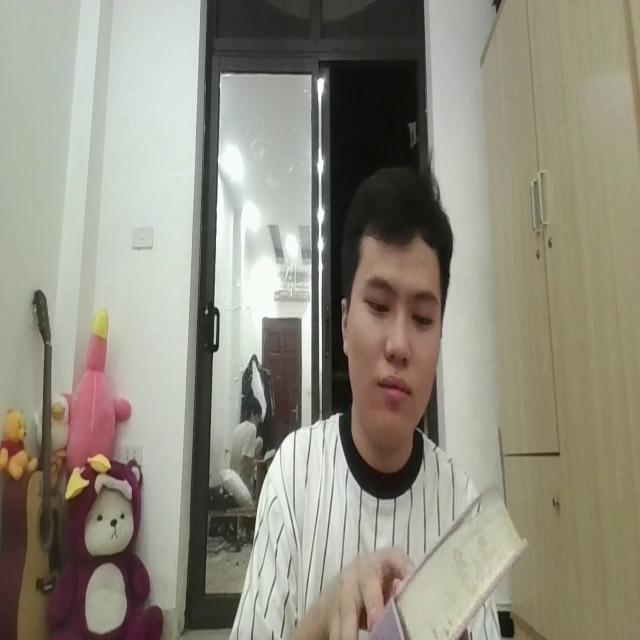book: (374, 474, 524, 636)
student: (236, 157, 516, 640)
